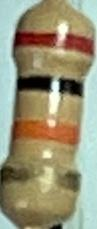Black: (17, 73, 83, 99)
Orange: (12, 120, 78, 145)
Red: (13, 33, 93, 57)
Side-Silver: (1, 165, 79, 192)
